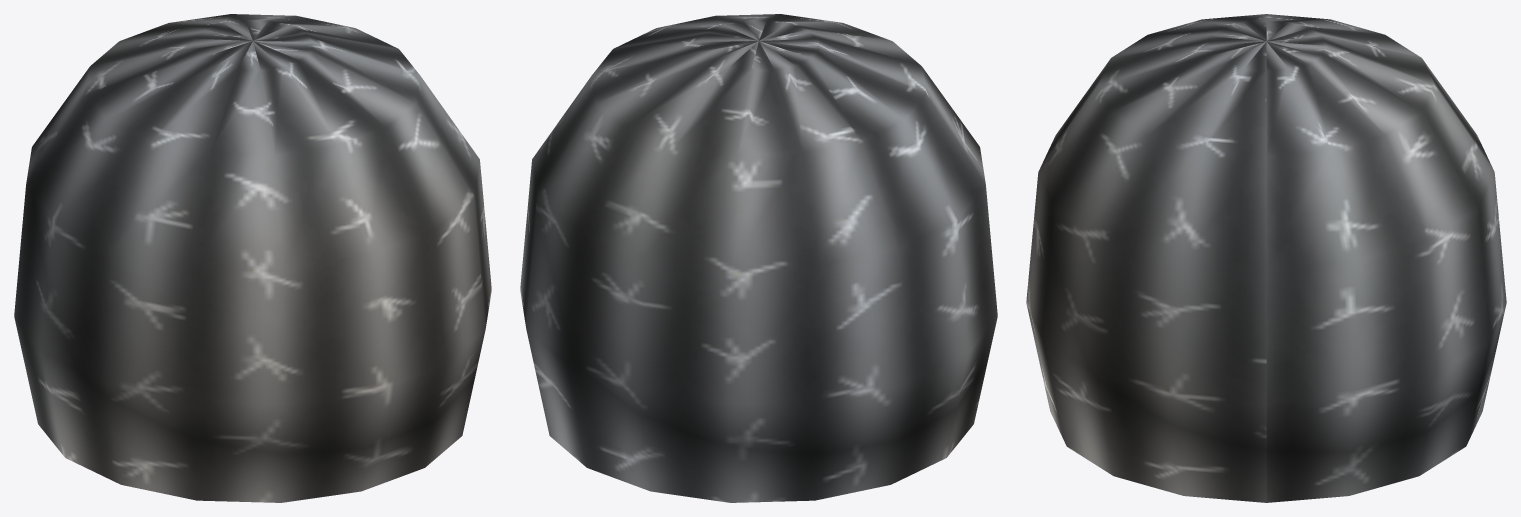
Rendered from cactus_barrel_l0.gltf.
The picture shows the model from 3 angles, left to right: view 1: azimuth 30°, elevation 25°; view 2: azimuth 150°, elevation 25°; view 3: azimuth 270°, elevation 25°; orthographic projection.
Visible parts, largest first — view 1: cactus_barrel_l0; view 2: cactus_barrel_l0; view 3: cactus_barrel_l0.
Part boxes in pixels (x1,y1,x2,y2): cactus_barrel_l0: (14, 14, 491, 502); cactus_barrel_l0: (520, 14, 997, 502); cactus_barrel_l0: (1026, 14, 1506, 502).
Size of the model in its own units: 0.9 by 0.815 by 0.9.
Materials: 1 (1 with a texture image).
